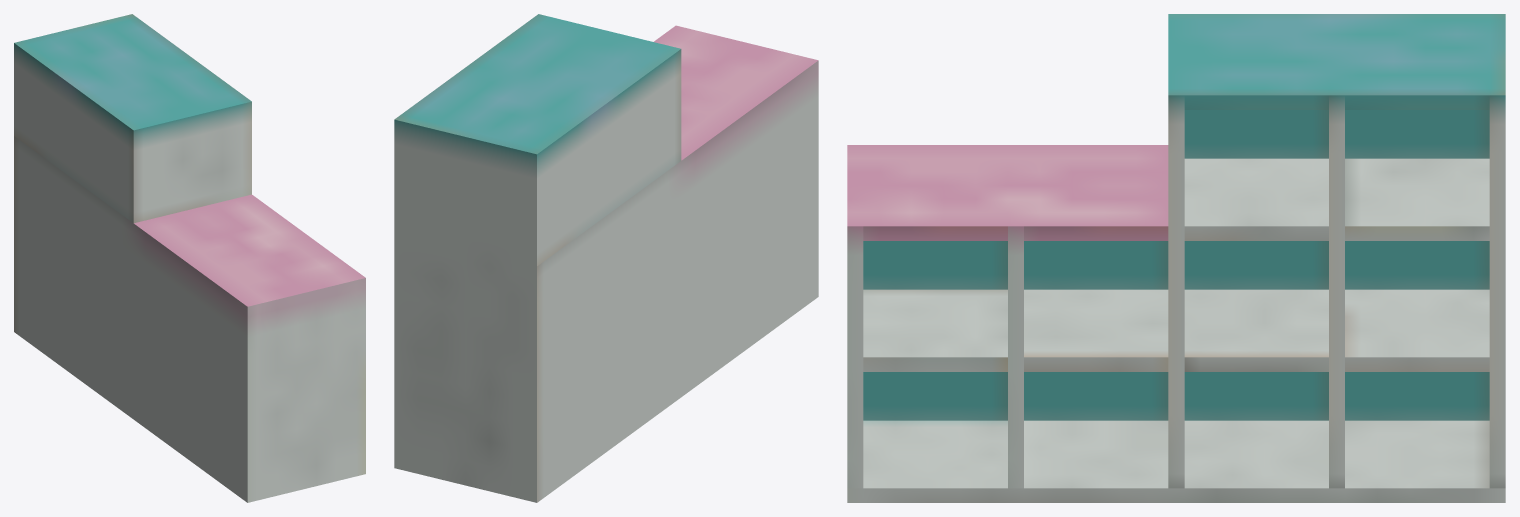
Rendered from StorageShelf_00.fbx.
3 views of the same model, side by side, from view 1: azimuth 30°, elevation 25°; view 2: azimuth 150°, elevation 25°; view 3: azimuth 270°, elevation 25° (orthographic). The views are drawn at different scales.
Parts seen in each view (by area): view 1: StorageShelf_00; view 2: StorageShelf_00; view 3: StorageShelf_00.
Boxes of the visible parts, x1,y1,x2,y2 form: StorageShelf_00: (14, 14, 365, 502); StorageShelf_00: (394, 14, 818, 502); StorageShelf_00: (847, 14, 1505, 502).
Bounding box in the file's own units: 60 × 205 × 140.
Materials: 1 (1 with a texture image).
